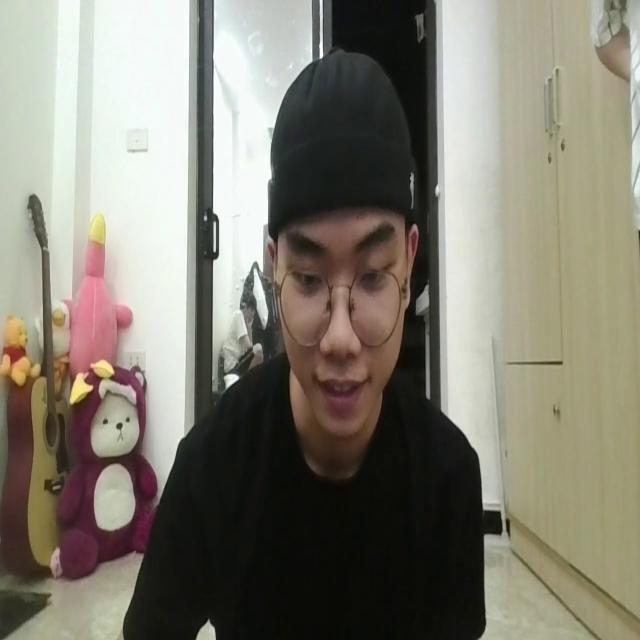student: (122, 42, 482, 640)
